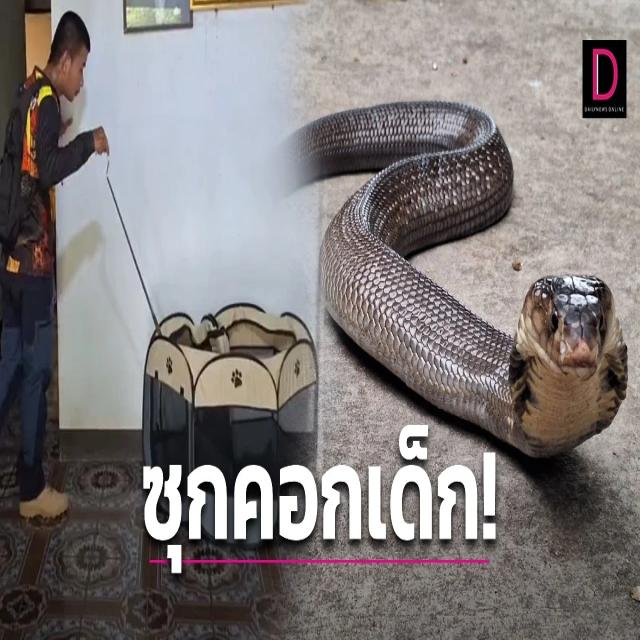Venomous: (504, 234, 633, 477)
